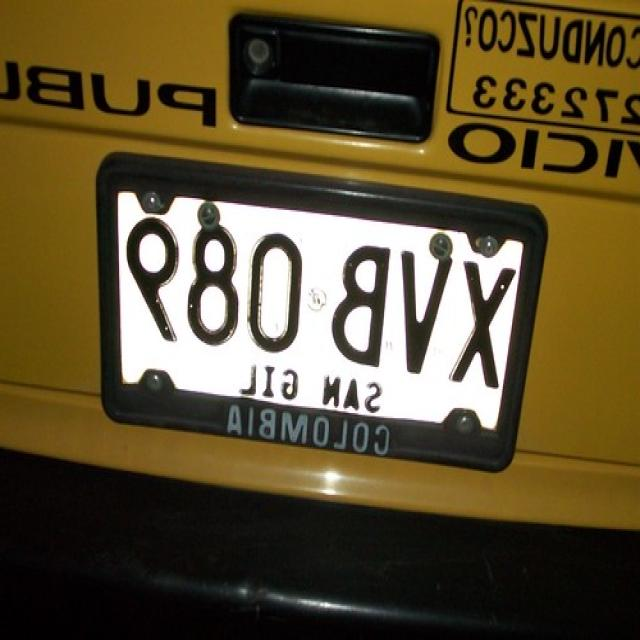placas: (119, 201, 522, 399)
